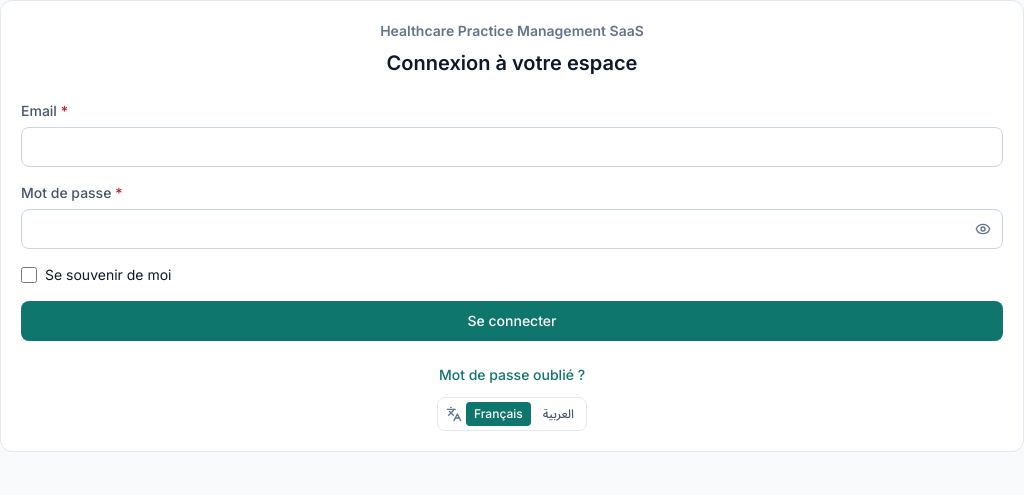
Test case: LoginPage › rejects an invalid email format
Type "not-an-email" into the field labelled "Email *" at (512, 147), box [21,127,1003,167]
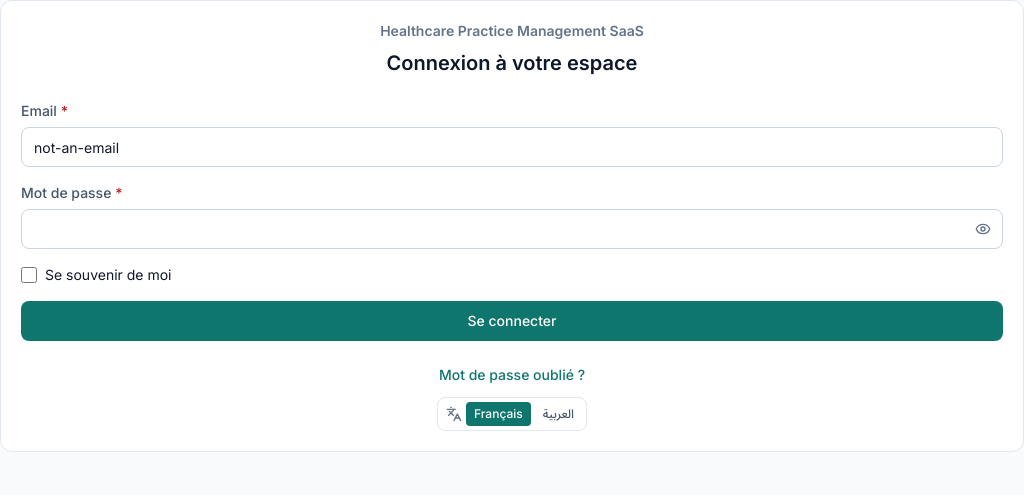
Type "x" into the password field labelled "Mot de passe *" at (512, 229), box [21,209,1003,249]
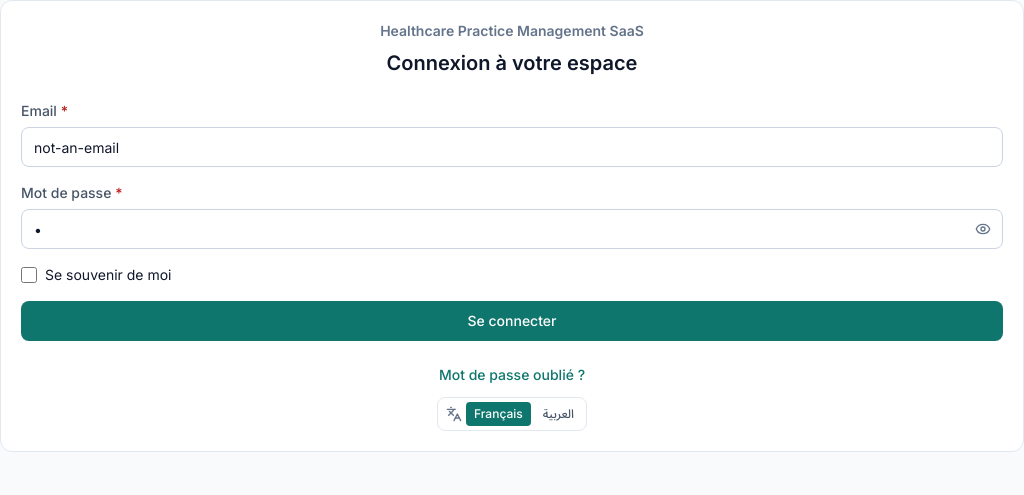
Click the button "Se connecter" at (512, 321), box [21,301,1003,341]
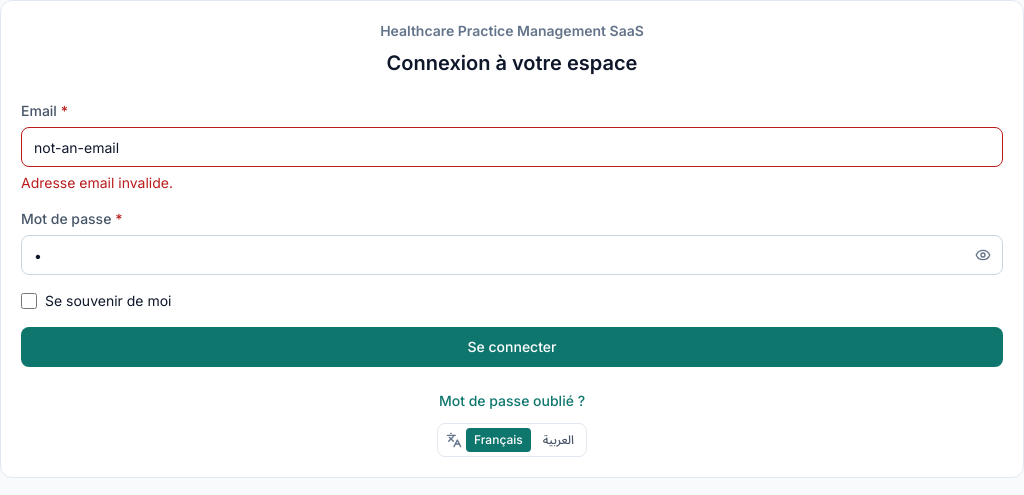
Check: the text "Adresse email invalide." is shown, box [21,174,173,191]
